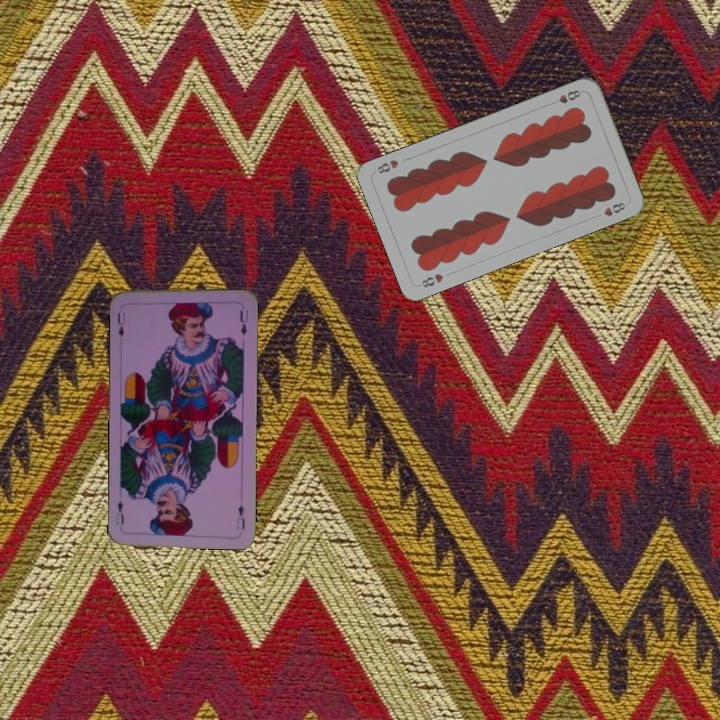EU: (232, 500, 247, 532), (113, 309, 128, 339)
H8: (415, 270, 446, 290), (554, 86, 583, 106)
